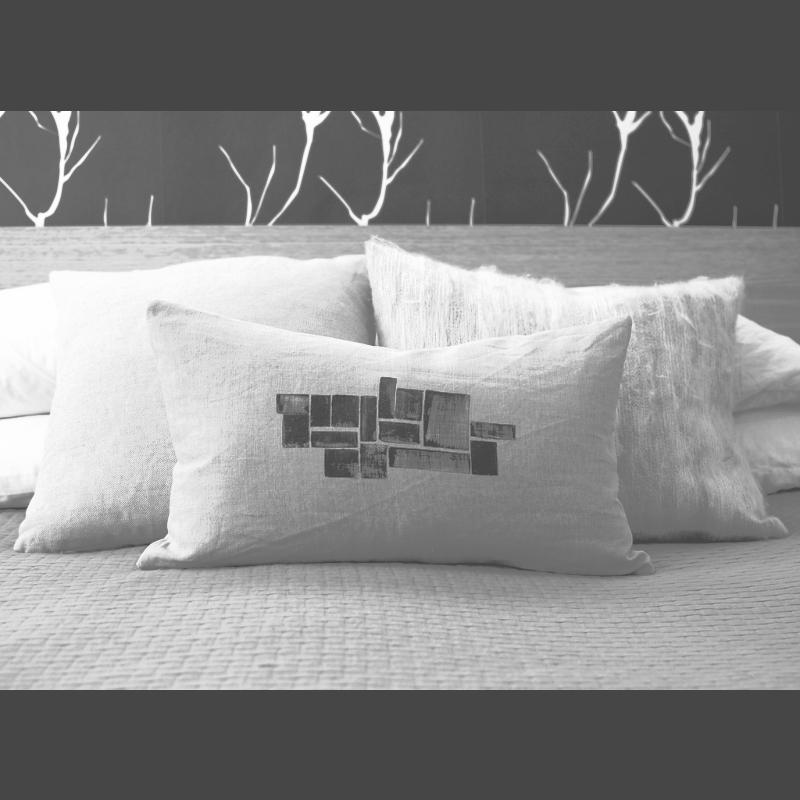pillow: (138, 304, 650, 566), (366, 232, 792, 538), (12, 248, 376, 554)
